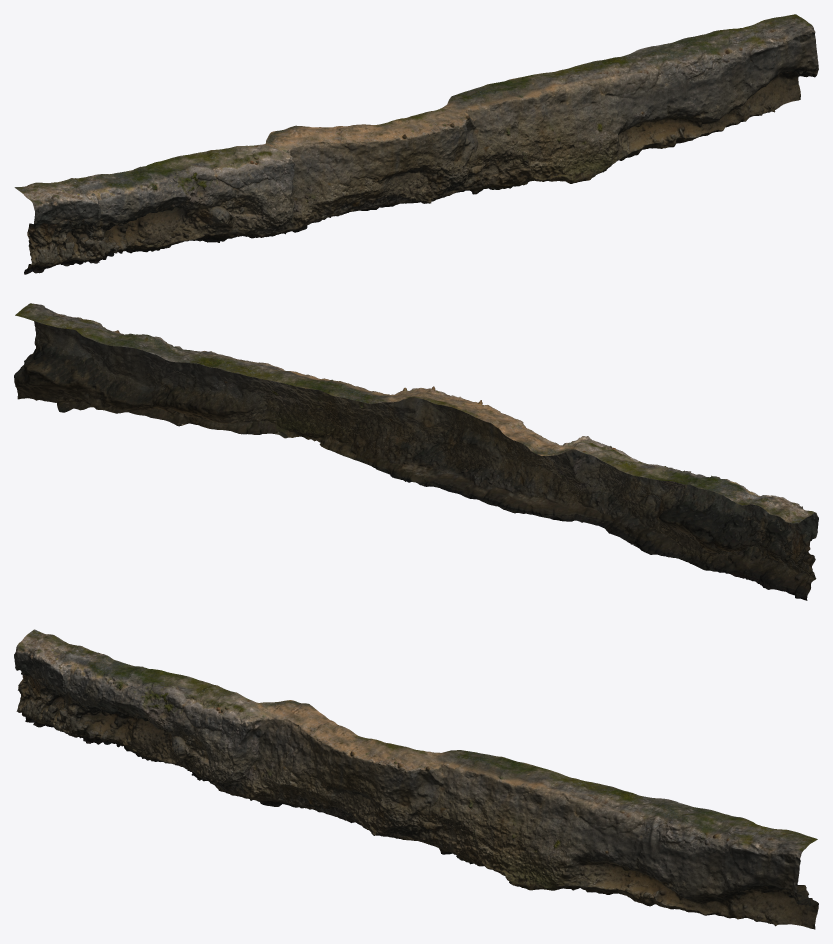
The model's file is coastal_cliff_01.glb.
3 renders of one model, top to bottom at view 1: azimuth 30°, elevation 25°; view 2: azimuth 150°, elevation 25°; view 3: azimuth 330°, elevation 25°, orthographic. The views are drawn at different scales.
Parts seen in each view (by area): view 1: coastal_cliff_01; view 2: coastal_cliff_01; view 3: coastal_cliff_01.
Part boxes in pixels (<box>): coastal_cliff_01: <box>14,14,818,274</box>; coastal_cliff_01: <box>14,303,818,600</box>; coastal_cliff_01: <box>14,629,818,929</box>.
Bounding box in the file's own units: 91.98 × 10.33 × 10.97.
Materials: 1 (1 with a texture image).
